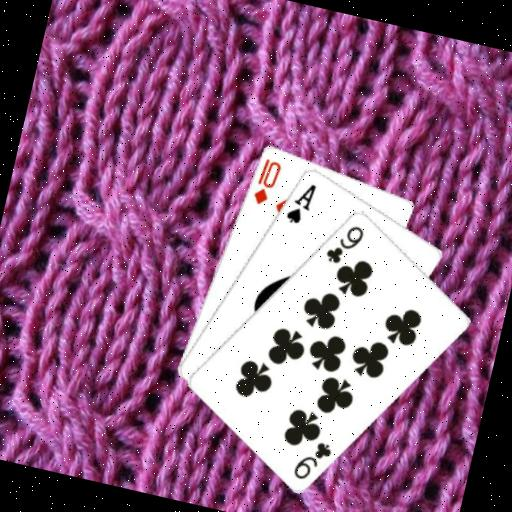10D: (248, 154, 284, 209)
9C: (321, 217, 368, 270), (289, 434, 336, 487)
AS: (282, 176, 319, 228)
